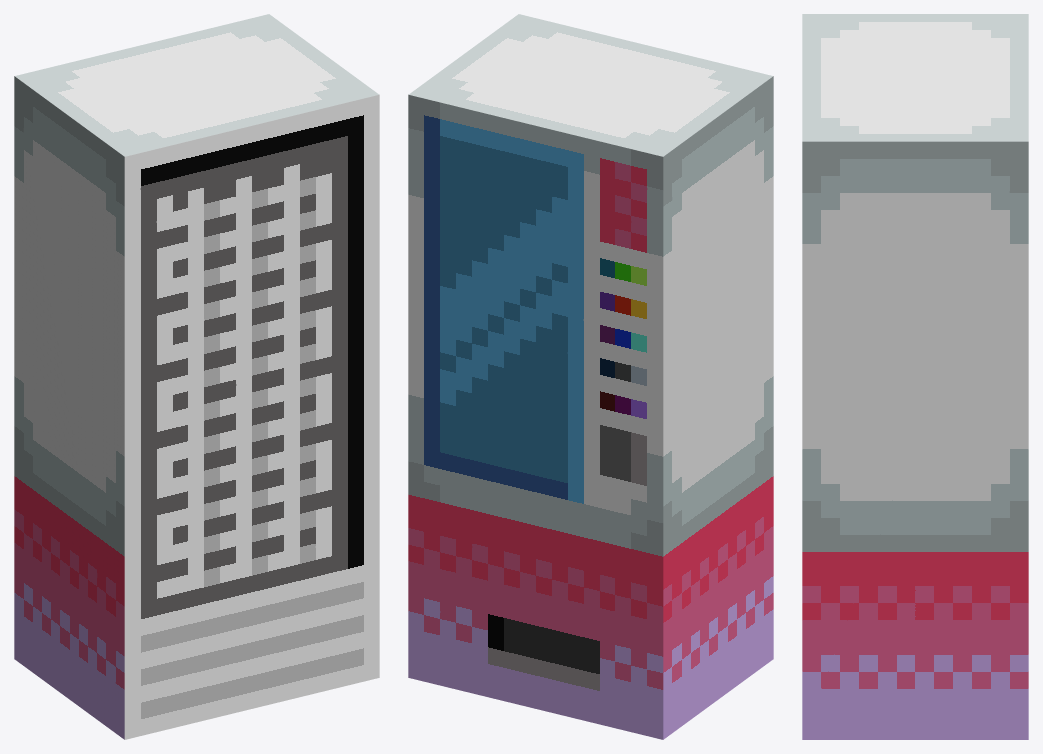
File: vending.gltf
3 views of the same model, side by side, from view 1: azimuth 30°, elevation 25°; view 2: azimuth 150°, elevation 25°; view 3: azimuth 270°, elevation 25° (orthographic). The views are drawn at different scales.
Parts seen in each view (by area): view 1: cuboid; view 2: cuboid; view 3: cuboid.
Boxes of the visible parts, left/top/right/bottom form: cuboid: left=14, top=14, right=379, bottom=739; cuboid: left=408, top=14, right=773, bottom=739; cuboid: left=802, top=14, right=1028, bottom=739.
Bounding box in the file's own units: 1 × 2.19 × 0.75.
Materials: 1 (1 with a texture image).
